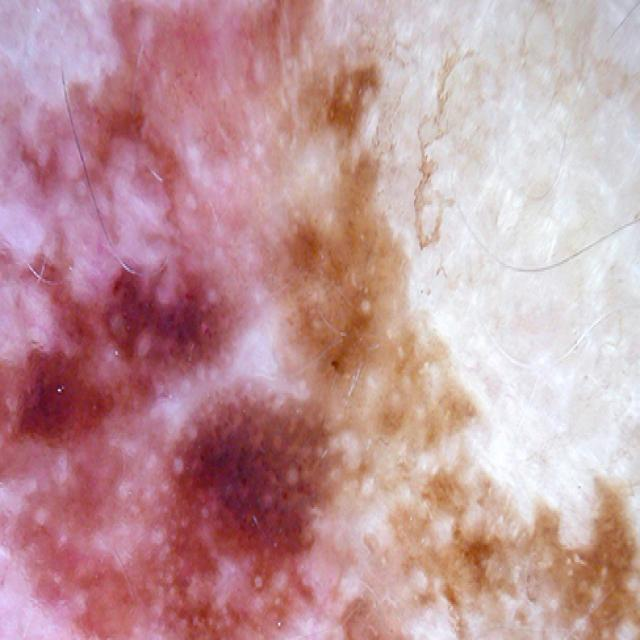Keratosis: (231, 216, 640, 640), (0, 89, 304, 608)
